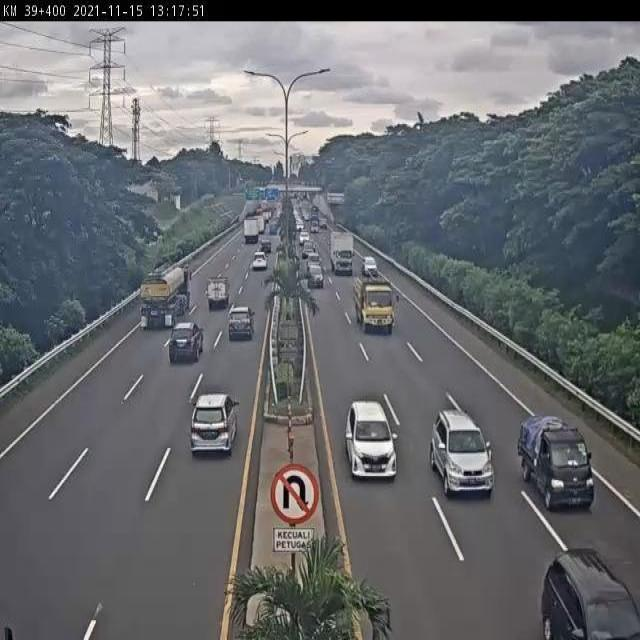Car: (538, 548, 639, 639), (430, 408, 494, 498), (342, 393, 398, 490), (190, 390, 238, 454), (168, 321, 204, 364), (228, 305, 255, 340), (306, 262, 324, 288), (362, 256, 378, 278), (252, 252, 268, 271), (302, 240, 316, 259), (260, 236, 272, 253), (308, 250, 320, 266), (299, 230, 309, 246), (310, 222, 318, 233), (320, 218, 328, 228), (302, 212, 310, 222)
Truck: (518, 415, 594, 510), (132, 263, 197, 332), (354, 272, 394, 335), (327, 234, 361, 276), (204, 274, 228, 310), (239, 216, 263, 242)
